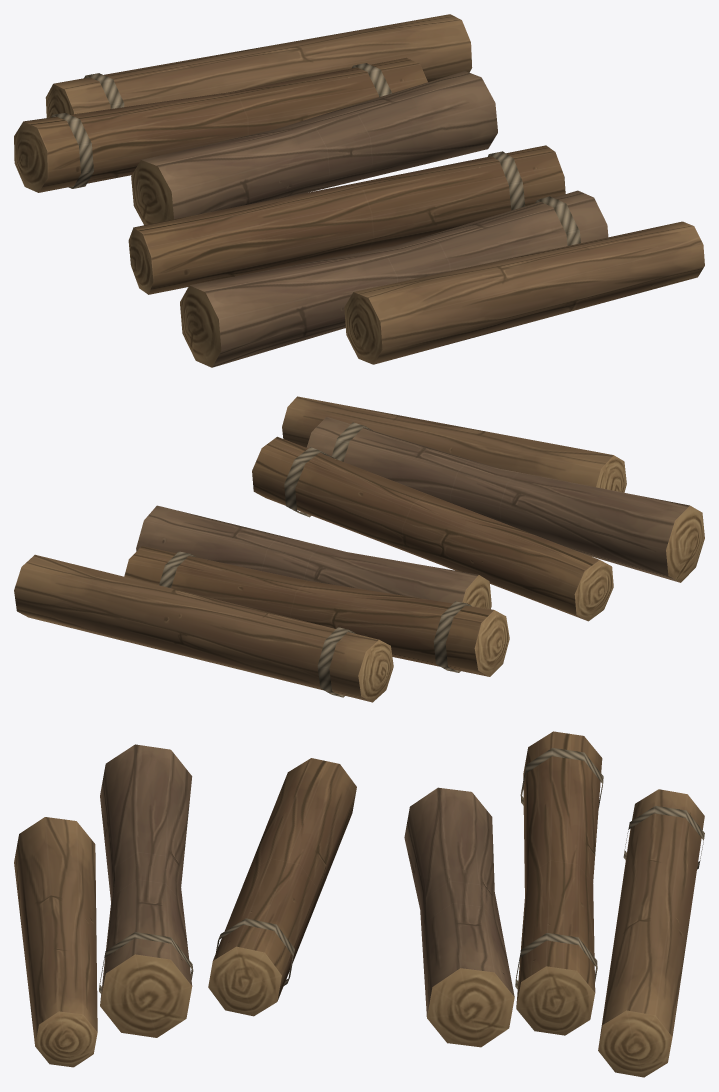
File: Ground_Beams1.fbx
3 renders of one model, top to bottom at view 1: azimuth 30°, elevation 25°; view 2: azimuth 150°, elevation 25°; view 3: azimuth 270°, elevation 25°, orthographic. The views are drawn at different scales.
Parts seen in each view (by area): view 1: polySurface1604; view 2: polySurface1604; view 3: polySurface1604.
Boxes of the visible parts, x1,y1,x2,y2 form: polySurface1604: (14,14,704,367); polySurface1604: (14,396,704,702); polySurface1604: (14,731,704,1077).
Size of the model in its own units: 168 by 31.62 by 182.
Materials: 1 (1 with a texture image).
